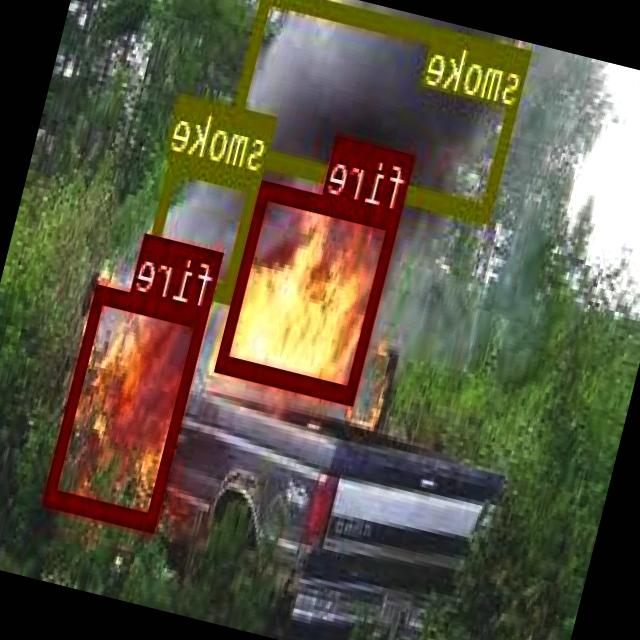fire: (216, 178, 402, 403), (45, 282, 210, 528)
smoke: (224, 0, 532, 221), (143, 152, 264, 302)
